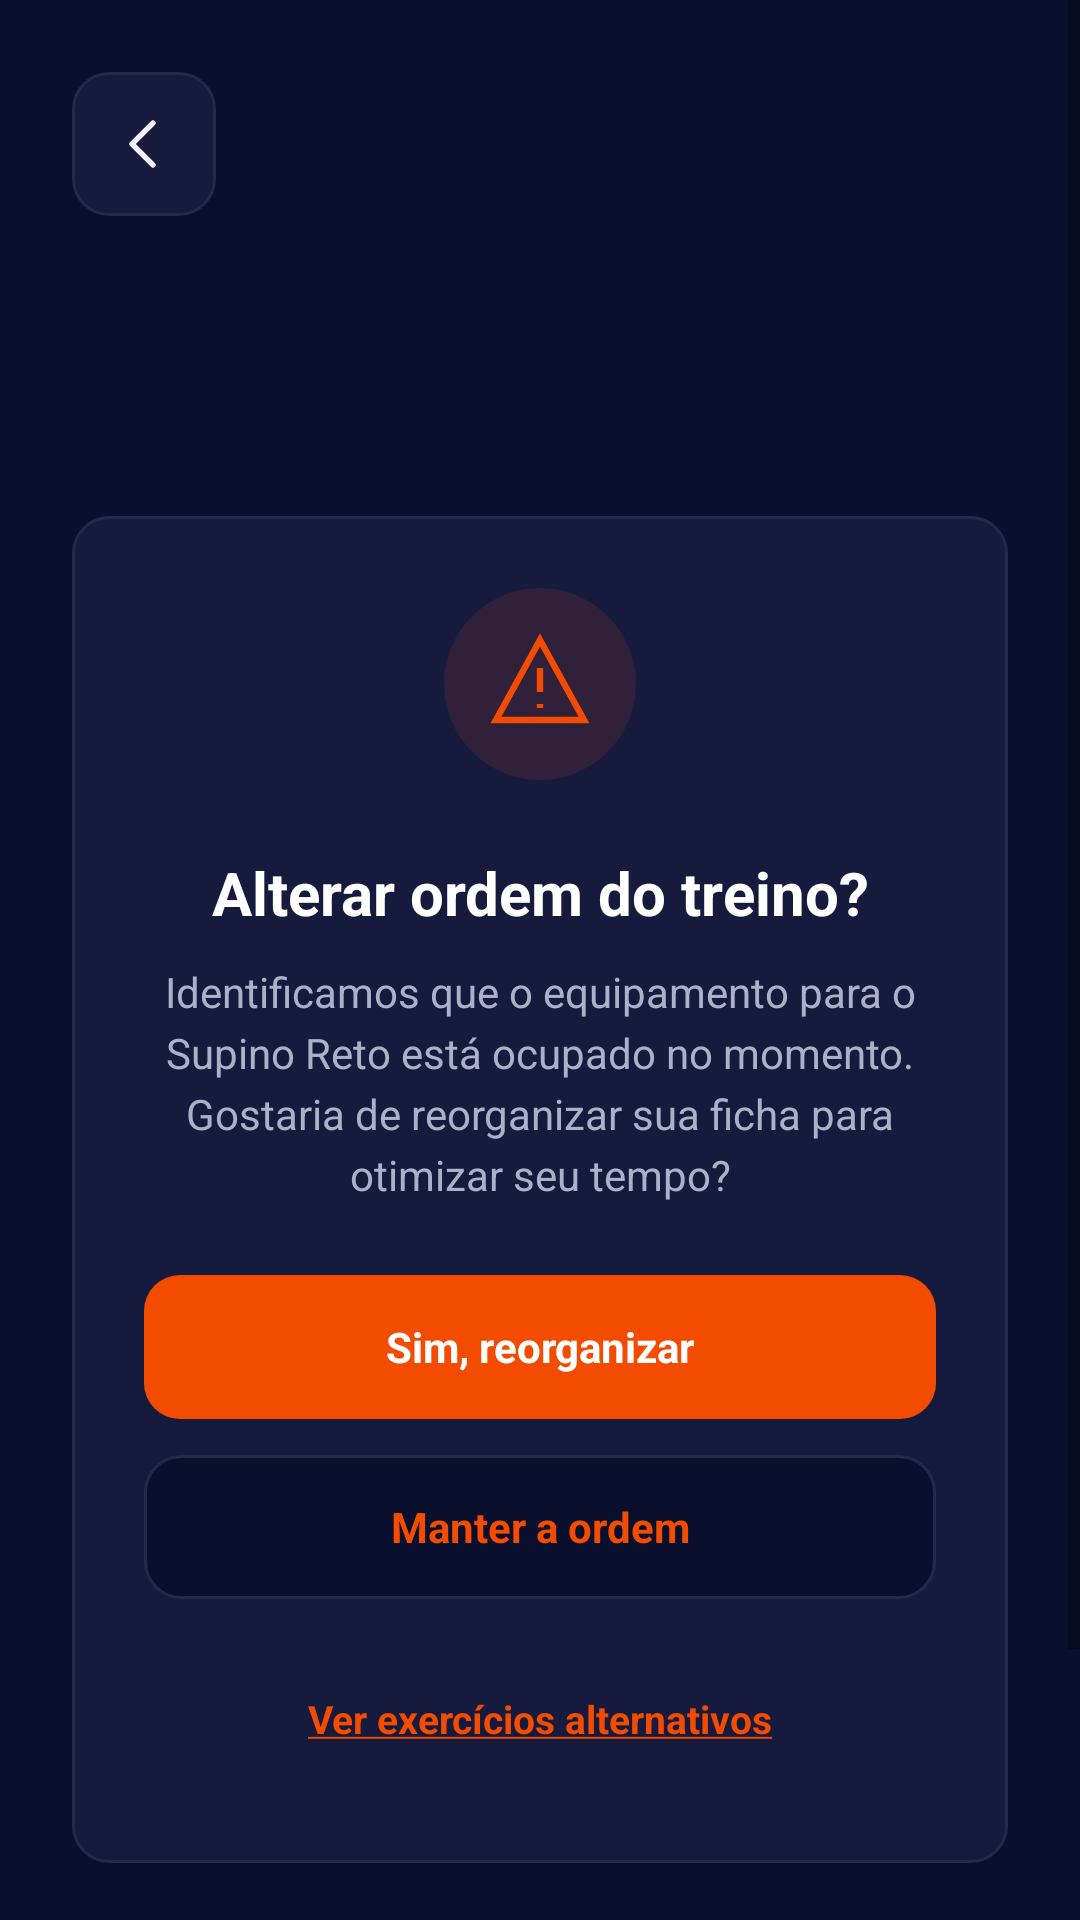

Where to tap for icons on this 1080 × 1920 app screen, as (x,y):
Voltar: (144,144)
workout warning: (540,684)
